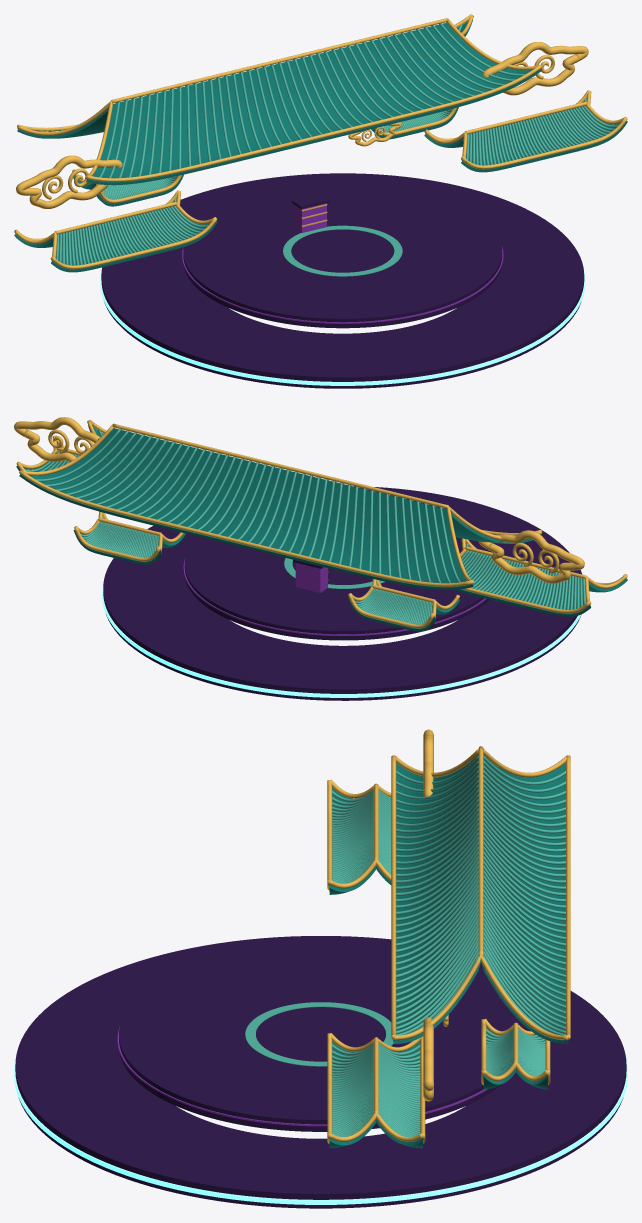
File: roof-r04.glb
3 renders of one model, top to bottom at view 1: azimuth 30°, elevation 25°; view 2: azimuth 150°, elevation 25°; view 3: azimuth 270°, elevation 25°, orthographic. The views are drawn at different scales.
Visible parts, largest first — view 1: STAGE_OUTER finite annulus hidden rear inferred, STAGE_INNER annulus, ROOF_MAIN closed shell, STAGE_INNER central disk, ROOF_LEFT closed shell, ROOF_RIGHT closed shell, STAGE_OUTER LED front full circumference inferred, ROOF_MAIN gold front eave, CLOUD_0 silhouette decorative proxy, CLOUD_1 silhouette decorative proxy, ROOF_MAIN gold ridge, STAGE_INNER silver band (+8 smaller); view 2: STAGE_OUTER finite annulus hidden rear inferred, ROOF_MAIN closed shell, STAGE_INNER annulus, STAGE_OUTER LED front full circumference inferred, ROOF_MAIN gold back eave inferred, ROOF_LEFT closed shell, CLOUD_0 silhouette decorative proxy, ROOF_MAIN gold ridge, CLOUD_1 silhouette decorative proxy, DJ11 body inferred depth, STAGE_INNER thin edge, ROOF_MAIN swept gable (+7 smaller); view 3: STAGE_OUTER finite annulus hidden rear inferred, STAGE_INNER annulus, ROOF_MAIN closed shell, STAGE_INNER central disk, STAGE_OUTER LED front full circumference inferred, STAGE_INNER silver band, ROOF_MAIN gold front eave, ROOF_MAIN gold back eave inferred, ROOF_MAIN swept gable.001, ROOF_MAIN gold ridge, ROOF_MAIN swept gable, CLOUD_1 silhouette decorative proxy (+43 smaller).
Boxes of the visible parts, box(x1,y1,x2,y2) form: STAGE_OUTER finite annulus hidden rear inferred: box(101, 173, 584, 388); STAGE_INNER annulus: box(183, 184, 502, 328); ROOF_MAIN closed shell: box(17, 20, 541, 185); STAGE_INNER central disk: box(291, 229, 394, 272); ROOF_LEFT closed shell: box(14, 202, 217, 272); ROOF_RIGHT closed shell: box(424, 99, 627, 172); STAGE_OUTER LED front full circumference inferred: box(100, 268, 585, 385); ROOF_MAIN gold front eave: box(86, 65, 541, 181); CLOUD_0 silhouette decorative proxy: box(16, 155, 122, 208); CLOUD_1 silhouette decorative proxy: box(482, 42, 588, 95); ROOF_MAIN gold ridge: box(111, 18, 448, 103); STAGE_INNER silver band: box(283, 225, 402, 276); STAGE_OUTER finite annulus hidden rear inferred: box(103, 486, 582, 700); ROOF_MAIN closed shell: box(19, 425, 541, 590); STAGE_INNER annulus: box(184, 522, 495, 640); STAGE_OUTER LED front full circumference inferred: box(102, 580, 580, 697); ROOF_MAIN gold back eave inferred: box(19, 470, 473, 586); ROOF_LEFT closed shell: box(455, 543, 627, 616); CLOUD_0 silhouette decorative proxy: box(478, 530, 584, 583); ROOF_MAIN gold ridge: box(112, 423, 448, 508); CLOUD_1 silhouette decorative proxy: box(14, 417, 100, 462); DJ11 body inferred depth: box(295, 563, 327, 592); STAGE_INNER thin edge: box(183, 558, 486, 635); ROOF_MAIN swept gable: box(447, 506, 541, 584); STAGE_OUTER finite annulus hidden rear inferred: box(15, 936, 626, 1208); STAGE_INNER annulus: box(119, 949, 522, 1131); ROOF_MAIN closed shell: box(393, 755, 568, 1043); STAGE_INNER central disk: box(256, 1007, 385, 1061); STAGE_OUTER LED front full circumference inferred: box(14, 1056, 627, 1204); STAGE_INNER silver band: box(245, 1002, 393, 1066); ROOF_MAIN gold front eave: box(391, 755, 396, 1039); ROOF_MAIN gold back eave inferred: box(566, 755, 570, 1039); ROOF_MAIN swept gable.001: box(392, 954, 568, 1039); ROOF_MAIN gold ridge: box(478, 746, 483, 956); ROOF_MAIN swept gable: box(395, 749, 566, 777); CLOUD_1 silhouette decorative proxy: box(423, 1017, 433, 1101).
Size of the model in its own units: 28.98 by 8.7 by 21.1.
